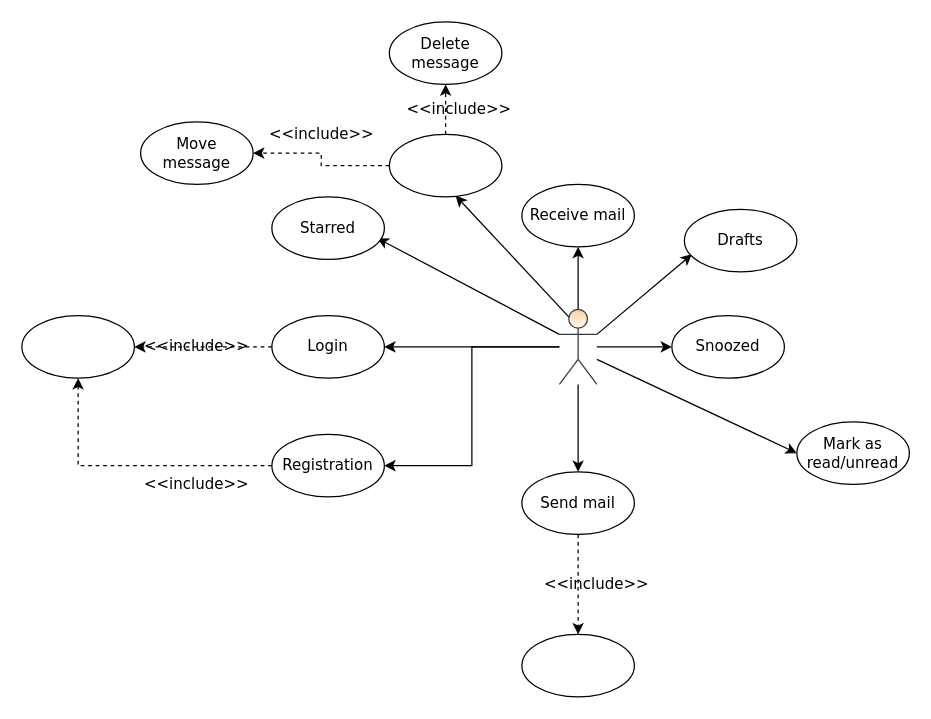
The diagram is 931 pixels wide and 719 high, and some of its shapes have lost their labels. Each missing label, with the centre of its shape:
"Attach file" belongs at (x=577, y=665).
"Mail account" belongs at (x=77, y=346).
"Show all messages" belongs at (x=445, y=165).
"User" belongs at (x=577, y=346).
